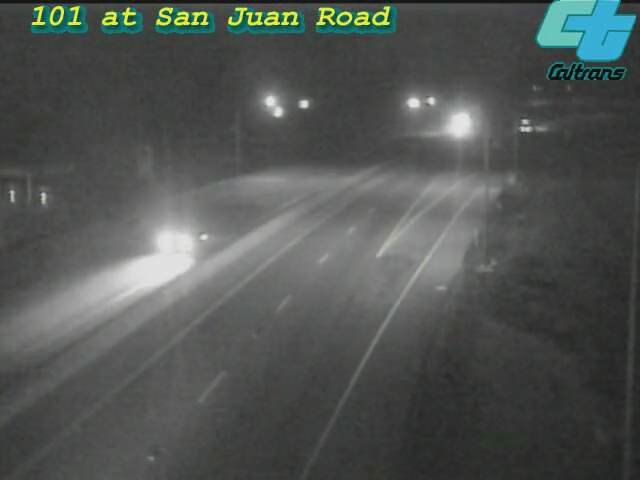vehicle: (138, 204, 218, 284), (430, 99, 480, 149), (503, 100, 553, 150)
